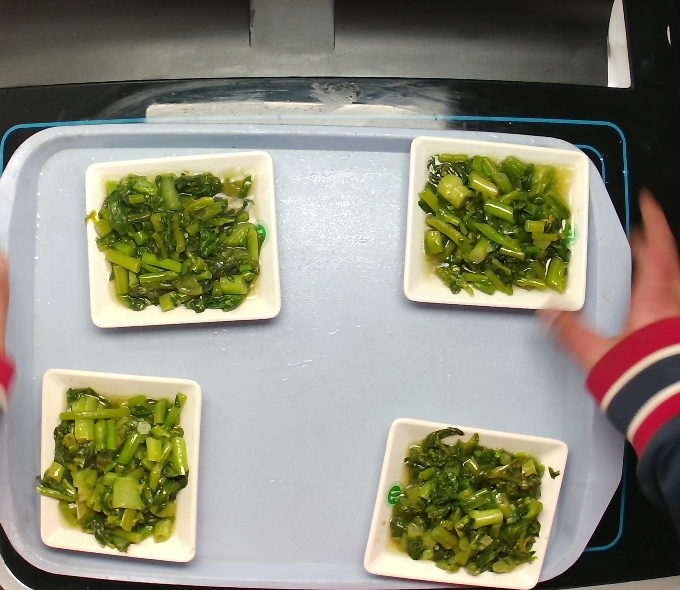wcq-YouCaiHua: (413, 139, 581, 309), (91, 161, 263, 320), (382, 432, 552, 575), (39, 390, 188, 548)
